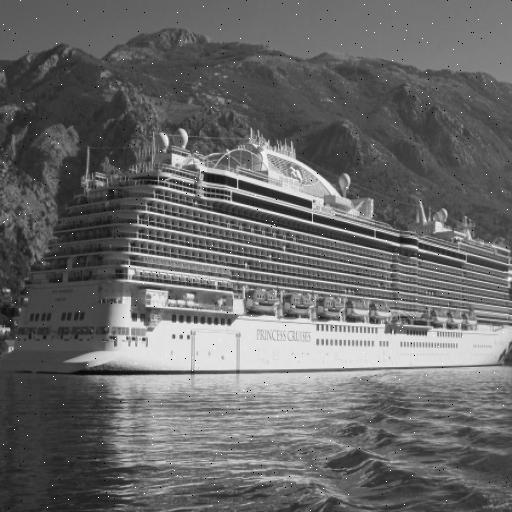cruises: (1, 127, 512, 380)
